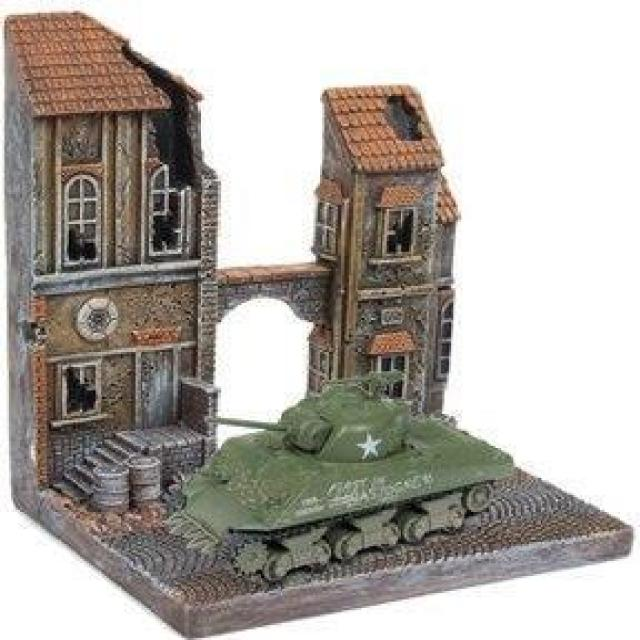Tanks: (186, 383, 514, 575)
